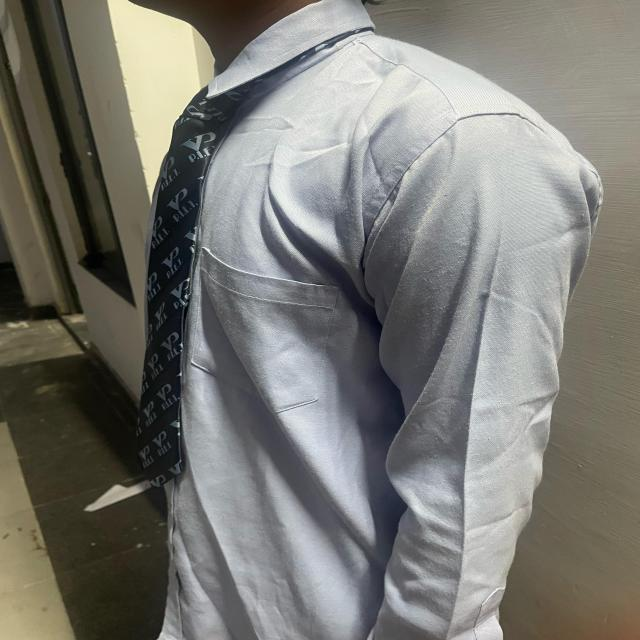Tie: (133, 25, 375, 495)
uniform: (142, 1, 604, 639)
